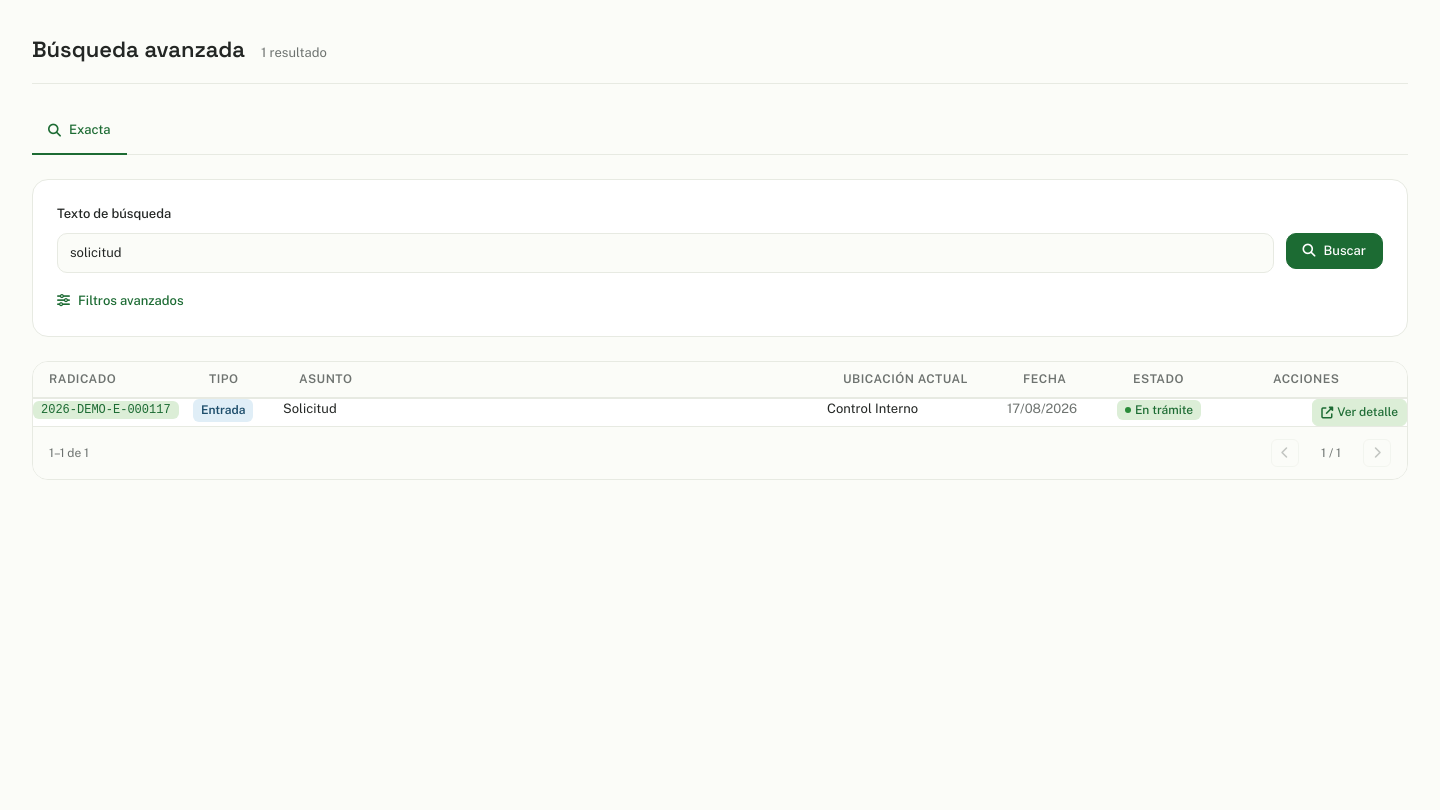
/busqueda — columna › el filtro avanzado distingue ubicación actual (selector) de dependencia de radicación (código)
The image size is (1440, 810).
Click the button "Filtros avanzados": (120, 300) left=57, top=289, right=184, bottom=312
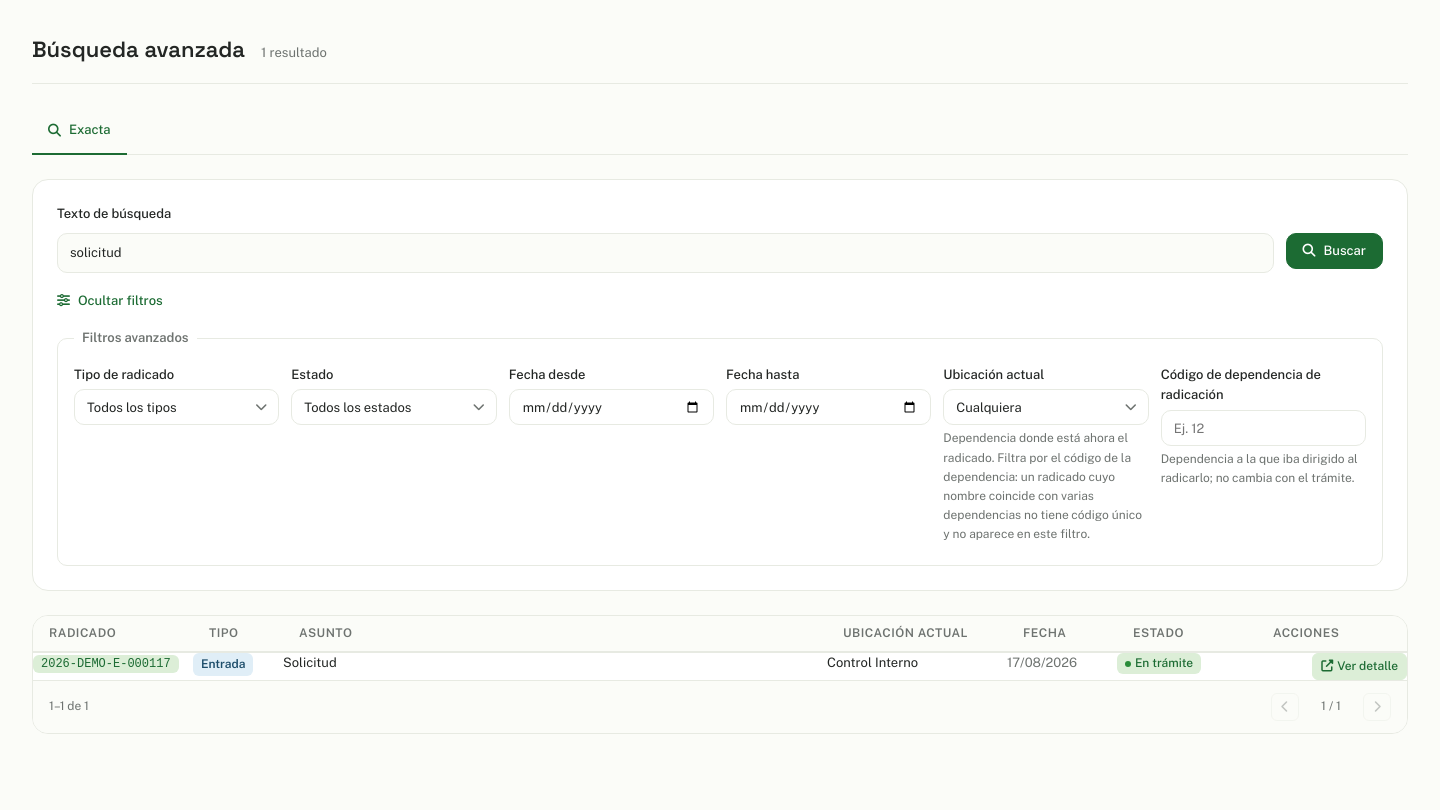
Expected: the number field labelled "Código de dependencia de radicación" is shown, left=1161, top=410, right=1366, bottom=446
